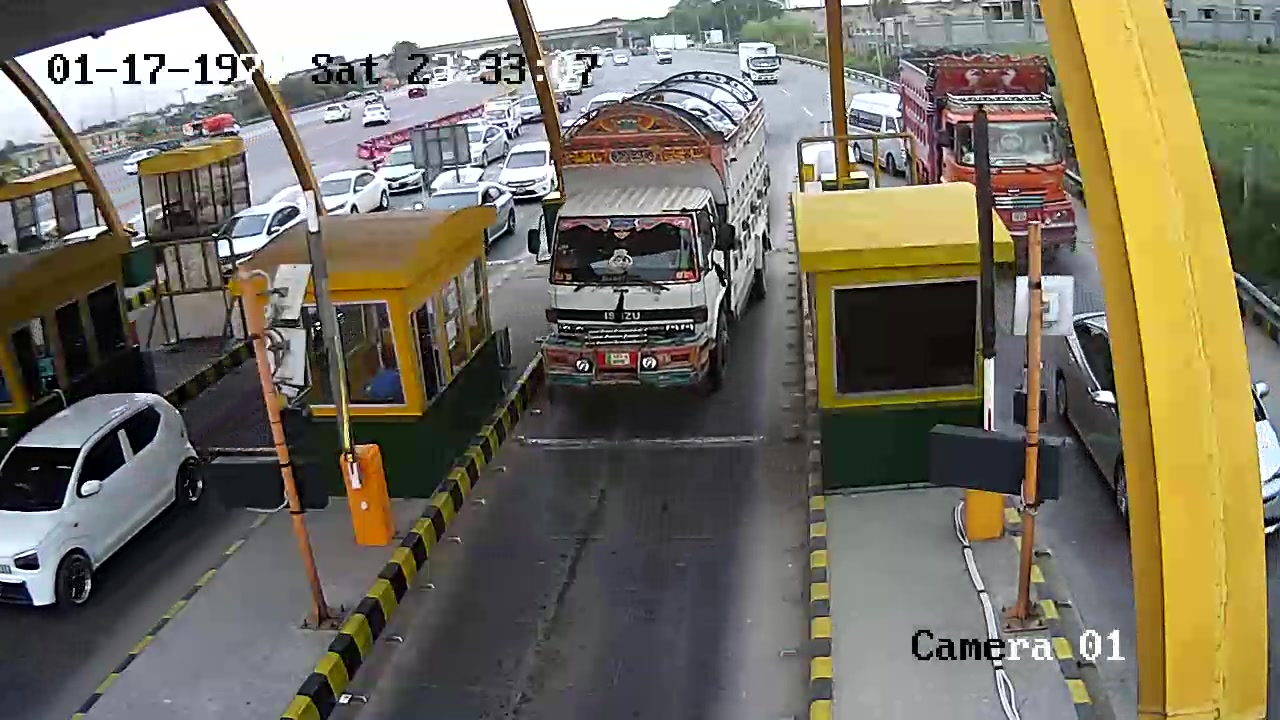F5: (534, 68, 777, 405)
